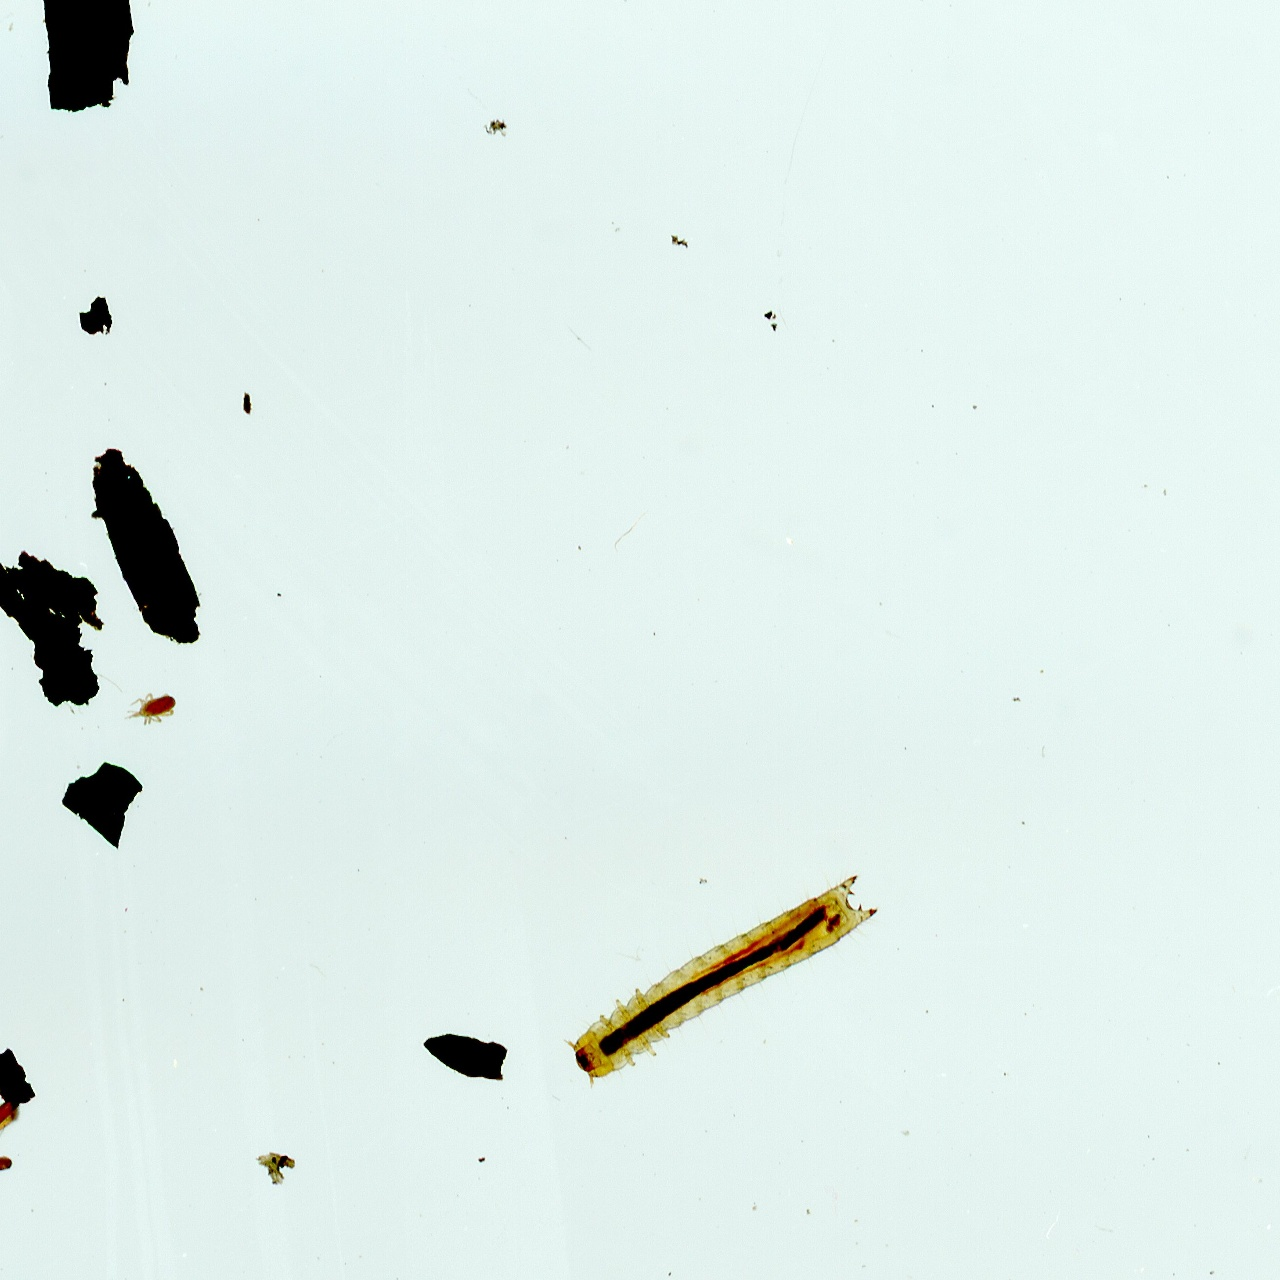arthropod: (560, 873, 879, 1083), (127, 693, 181, 726)
